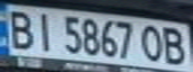5: (57, 12, 84, 55)
6: (96, 17, 121, 59)
7: (115, 19, 139, 60)
8: (78, 16, 100, 56)
B: (0, 7, 39, 51), (160, 24, 190, 66)
I: (30, 9, 60, 52)
O: (136, 21, 166, 63)
